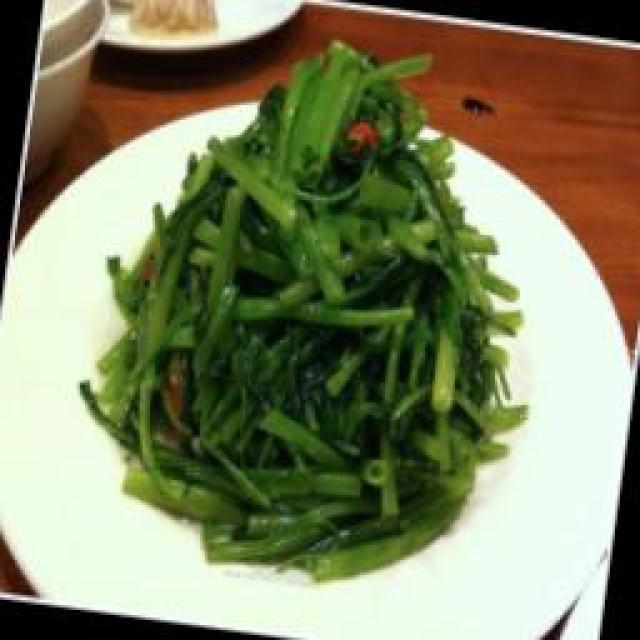water_spinach: (135, 118, 488, 538)
